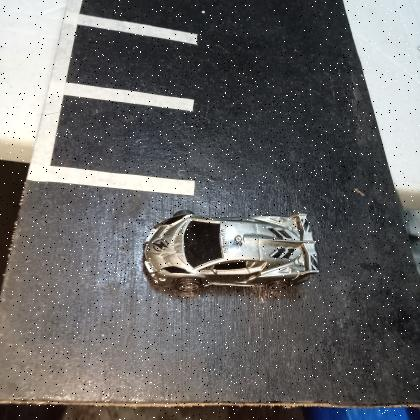Car: (142, 208, 320, 297)
